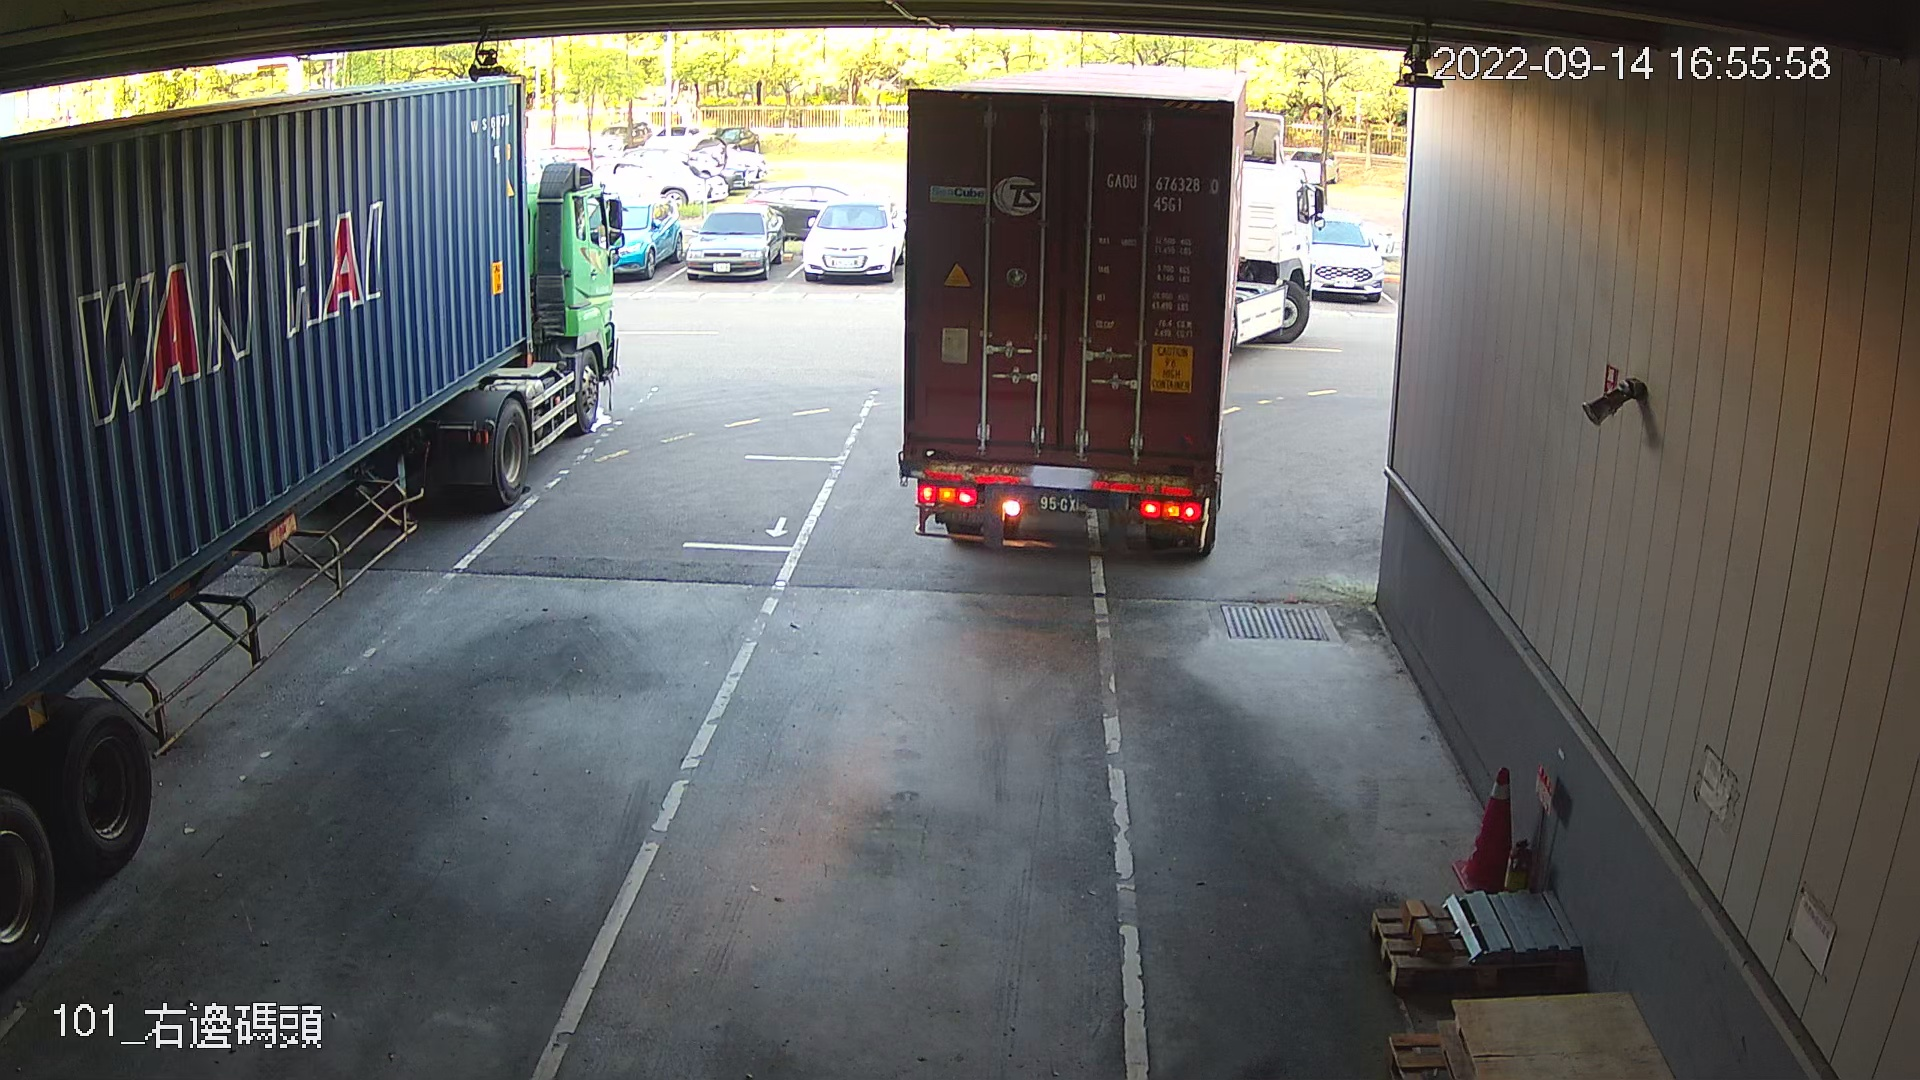container: (1098, 166, 1225, 218)
